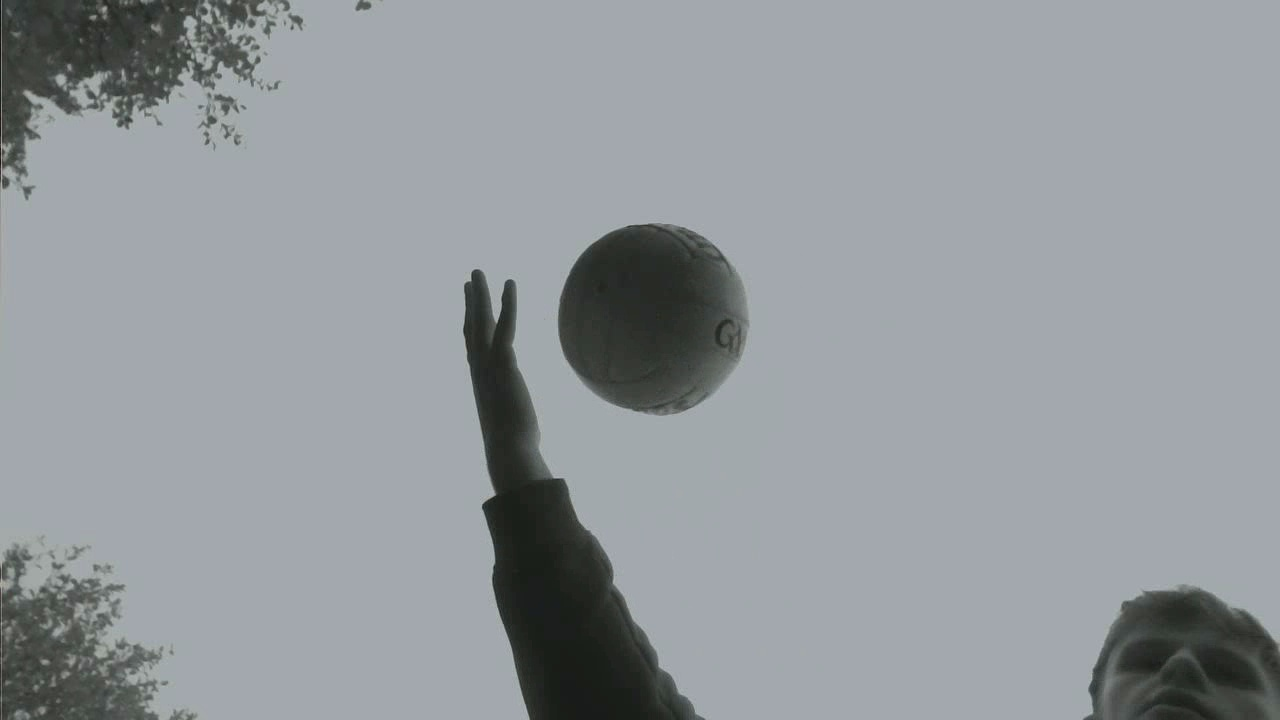Football-Spotter: (559, 224, 748, 414)
